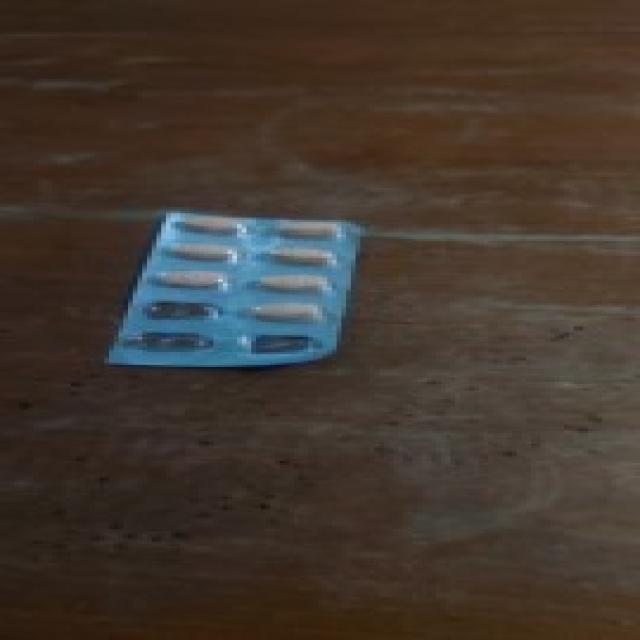Cacat: (103, 208, 365, 364)
Kemasan: (134, 298, 223, 361), (234, 330, 324, 360)
